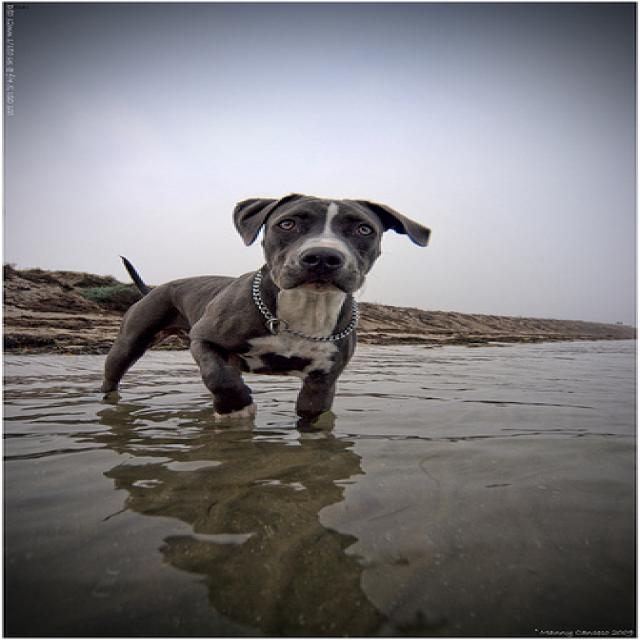dog-american_pit_bull_terrier: (84, 183, 436, 445)
